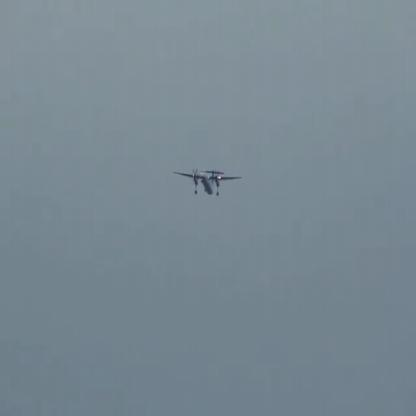CIV_Plane: (174, 168, 242, 198)
